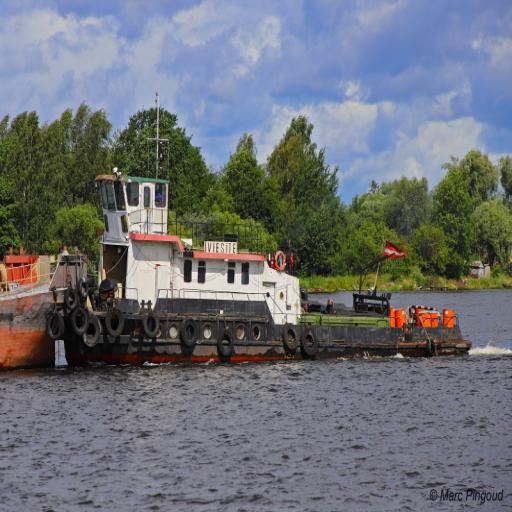tugboat: (60, 167, 476, 378)
